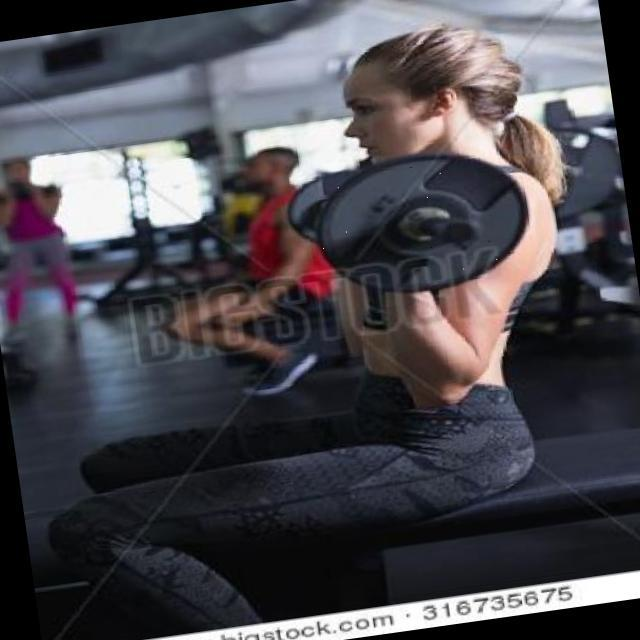barbell: (308, 137, 545, 316)
